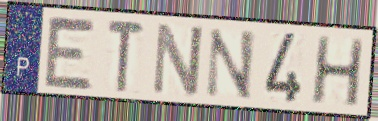4: (261, 31, 304, 106)
E: (41, 13, 98, 93)
H: (309, 35, 366, 110)
N: (149, 20, 206, 98), (203, 27, 257, 102)
T: (106, 17, 147, 95)
